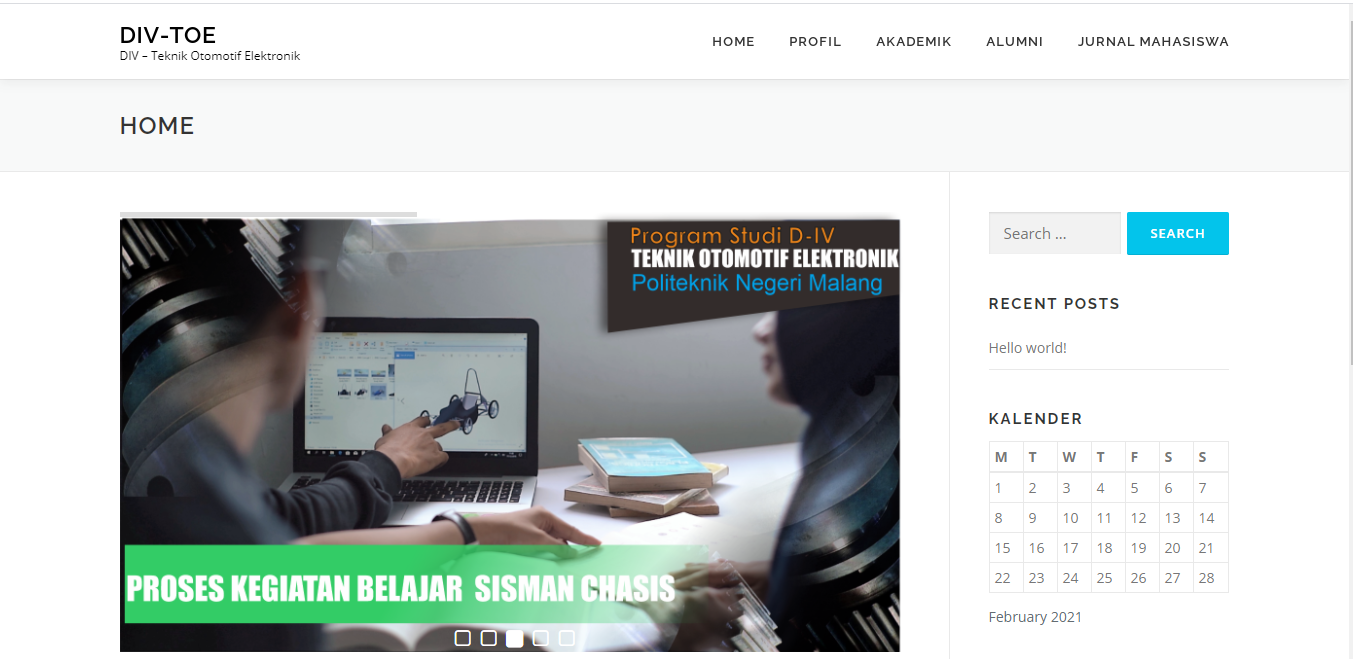Button: (1125, 209, 1231, 259)
Image: (118, 212, 898, 655)
Menu Bar: (688, 16, 1257, 68)
Side Bar: (952, 184, 1255, 659)
Text Field: (985, 208, 1124, 257)
